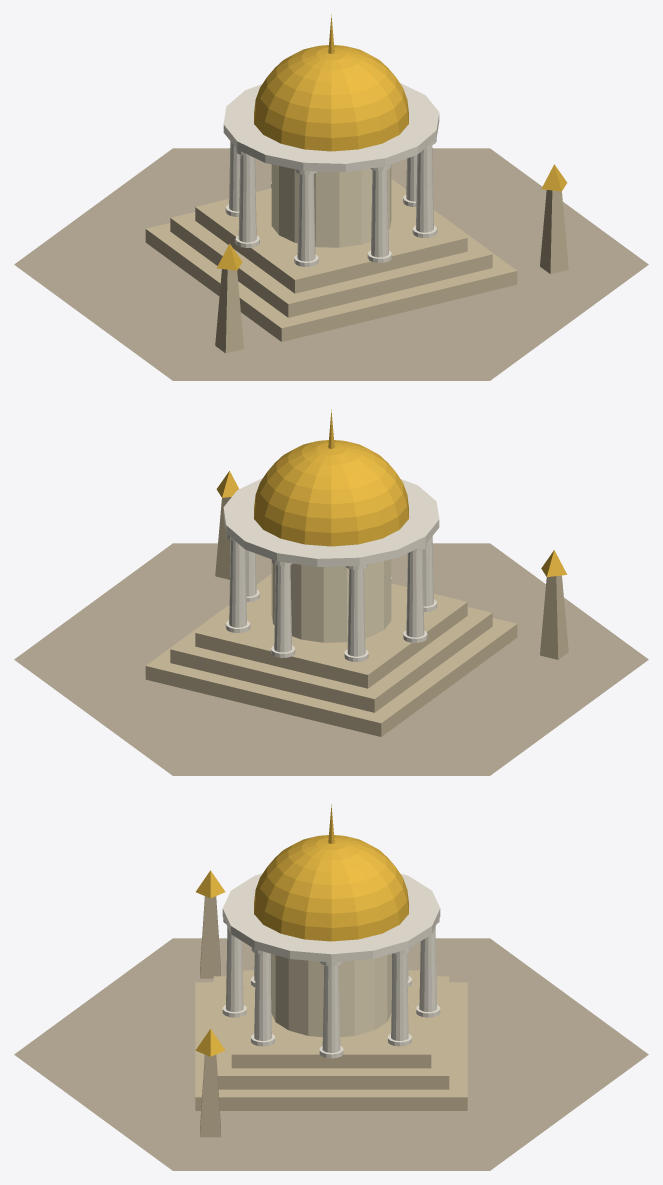
The model's file is wonder_generic.fbx.
3 renders of one model, top to bottom at view 1: azimuth 30°, elevation 25°; view 2: azimuth 150°, elevation 25°; view 3: azimuth 270°, elevation 25°, orthographic.
Visible parts, largest first — view 1: wonder_generic; view 2: wonder_generic; view 3: wonder_generic.
Part boxes in pixels (x1=…): wonder_generic: x1=14, y1=14, x2=648, y2=380; wonder_generic: x1=14, y1=409, x2=648, y2=775; wonder_generic: x1=14, y1=804, x2=648, y2=1170.
Size of the model in its own units: 182 by 91.4 by 210.
